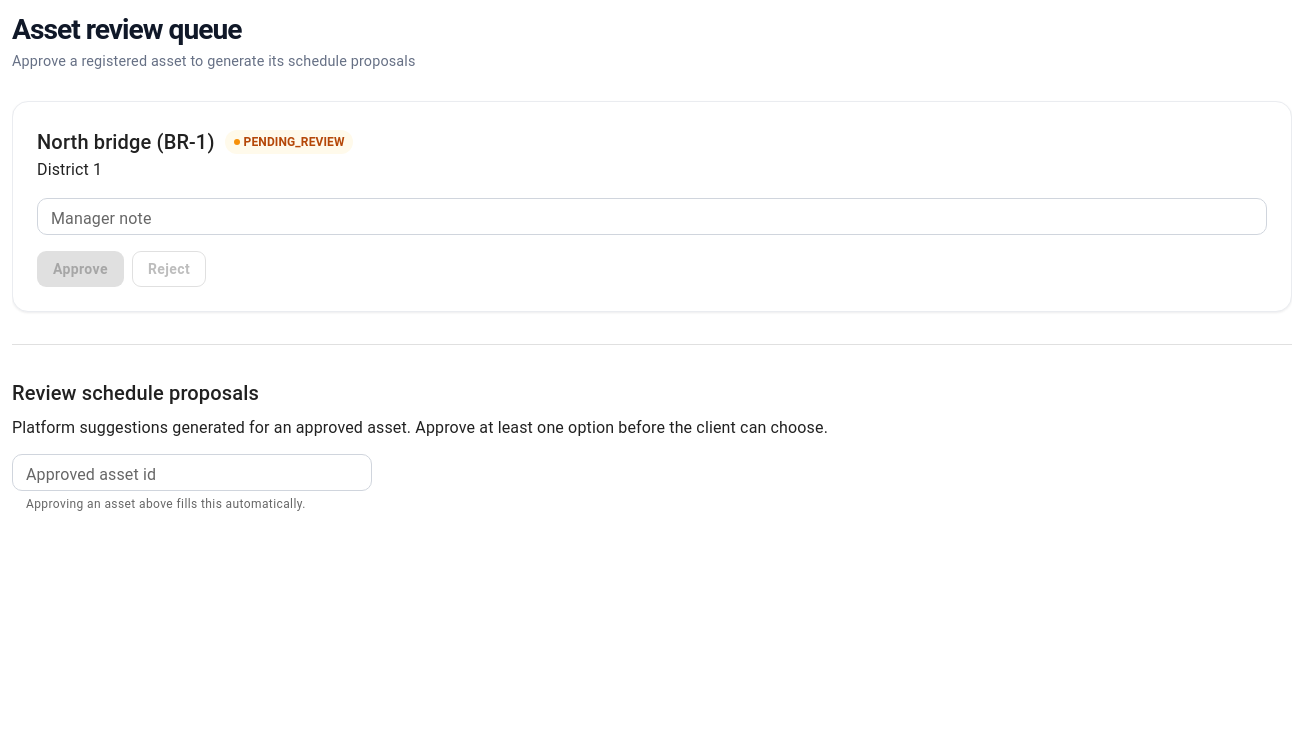
Test: AssetReviewPage review denial › renders a 403 proposal-review denial as a permissions outcome too
Step 1. Type "a1" into the field labelled "Approved asset id" → (192, 473), box [12,454,372,491]
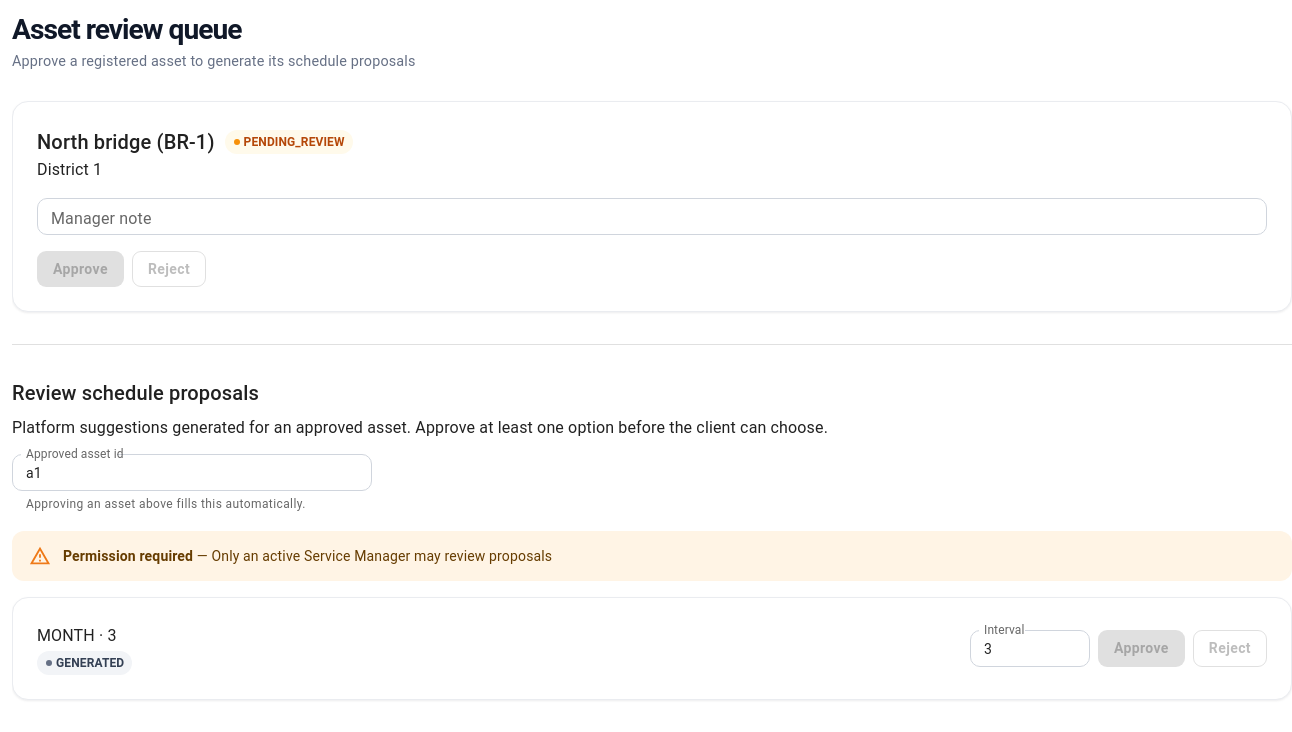
Now the message with test id "permission-denied" shows "Permission required", box [63,548,193,564]
Now the message with test id "permission-denied" shows "Only an active Service Manager may review proposals", box [212,548,552,564]
Now the heading "MONTH · 3" is shown, box [37,626,117,645]
